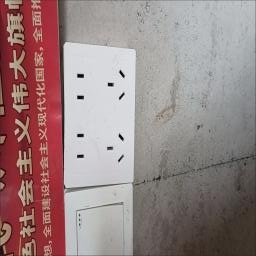outlet: (58, 31, 141, 190)
